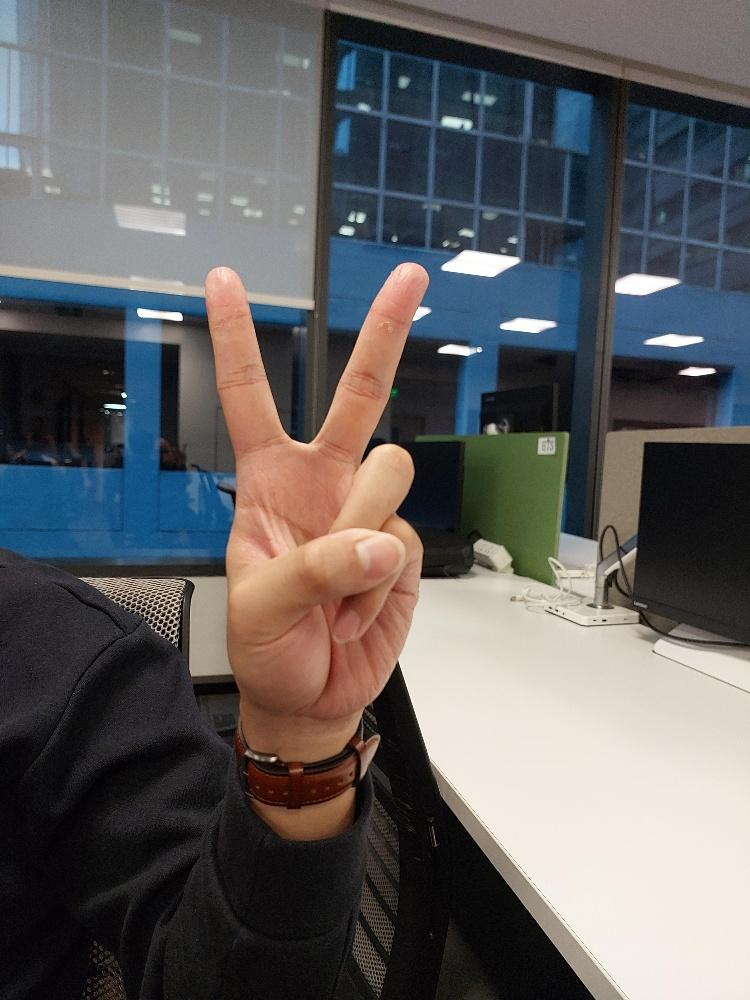v: (204, 261, 427, 718)
